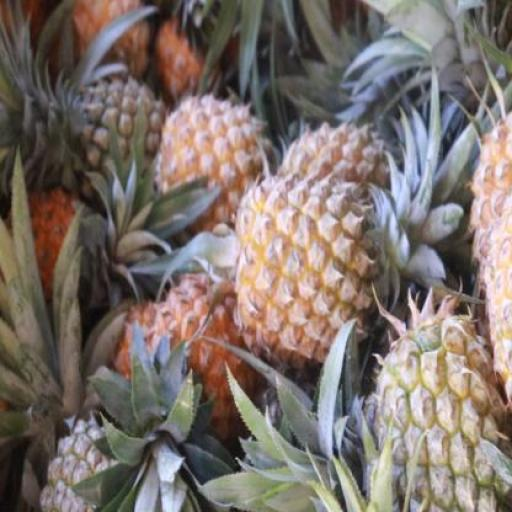------------------------------: (362, 315, 509, 511)
Pineapple - v8 v1: (236, 165, 377, 357), (146, 272, 254, 478), (159, 100, 277, 227)
